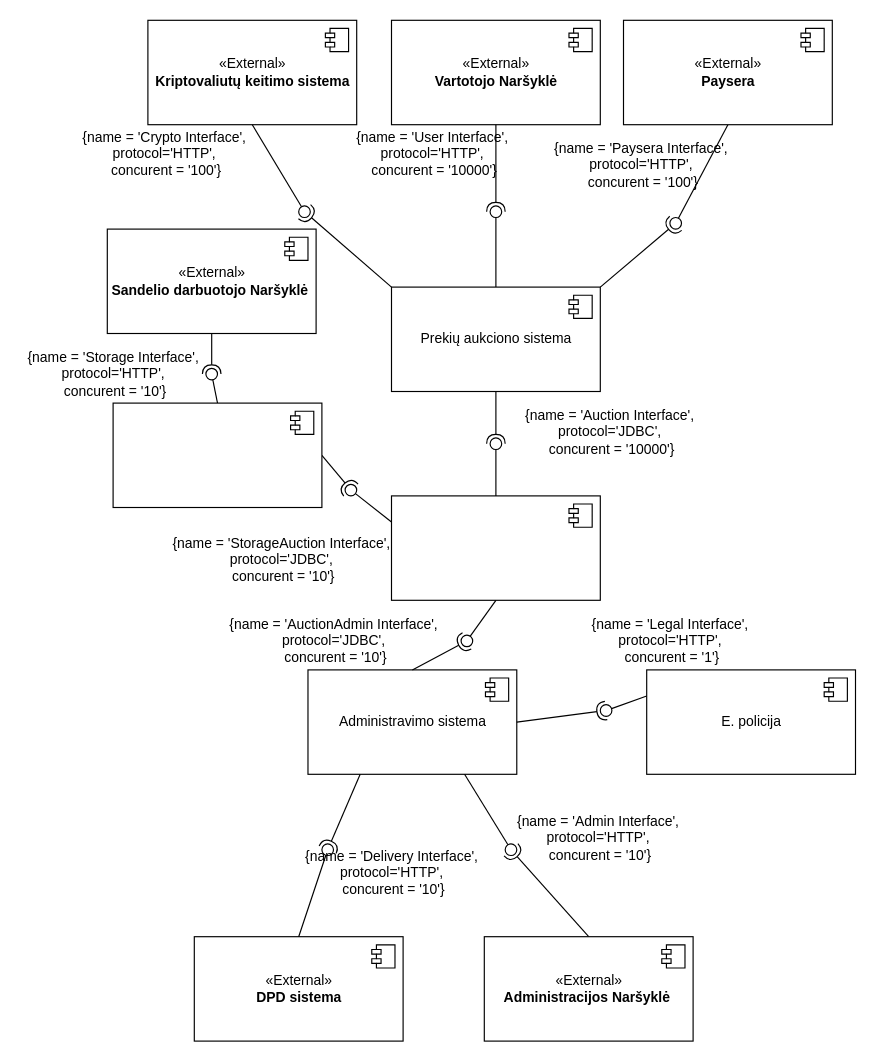
The diagram is 876 pixels wide and 1061 high, and some of its shapes have lost their labels. The centre of each missing label's shape, as x and y in pixels:
Aukciono prekių katalogas: [495,547]
Sandėlio sistema: [217,454]
